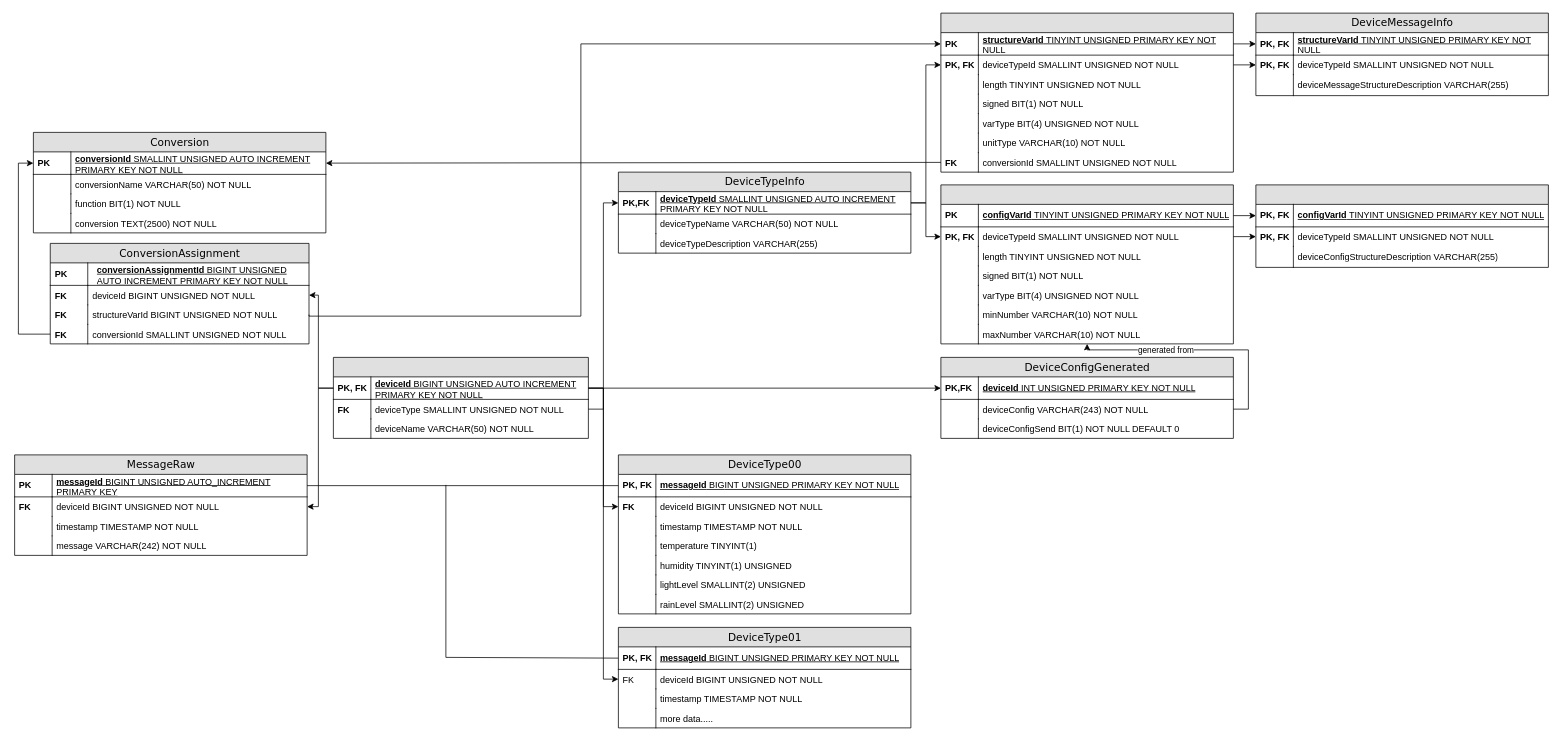
Some shapes in this 1562 by 743 pixel diagram are drawn without their labels. Each missing label, with the box of its shape:
DeviceConfigInfo: (1255, 184, 1548, 267)
DeviceConfigStructure: (940, 184, 1233, 344)
DeviceMessageStructure: (940, 12, 1233, 172)
Devices: (333, 357, 588, 438)
